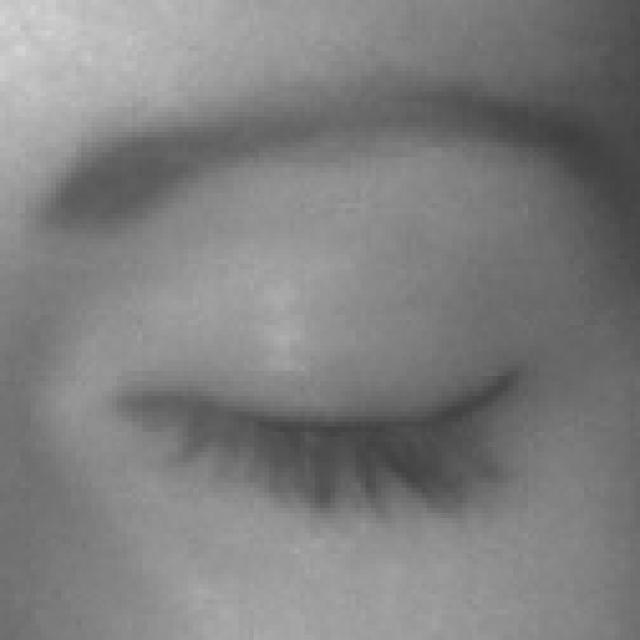Eyeclosed: (116, 226, 518, 640)
